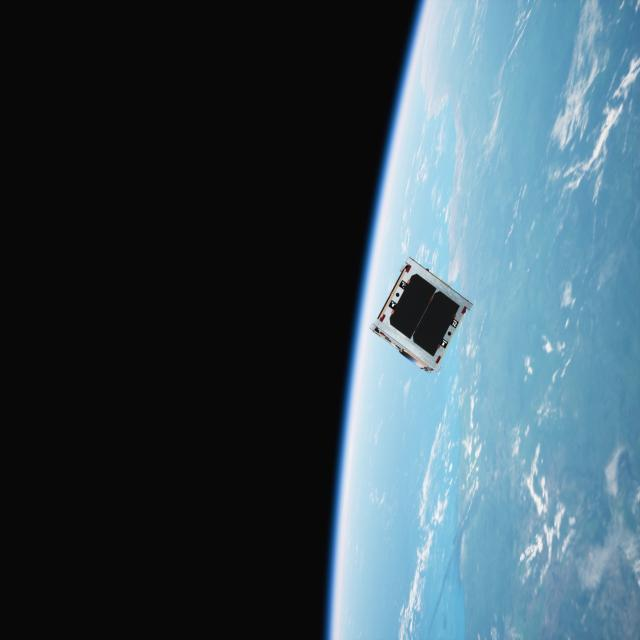medium_debris: (371, 255, 474, 378)
